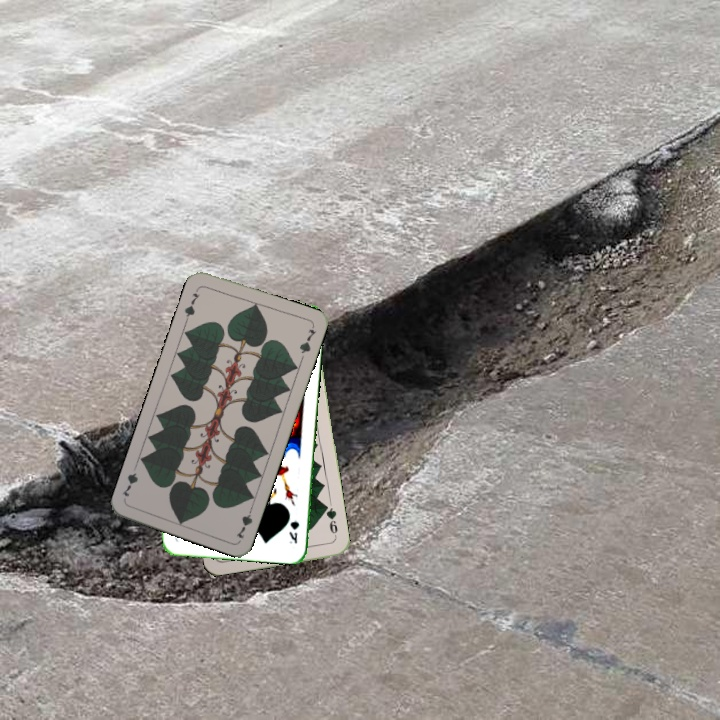G7: (232, 502, 256, 541), (180, 289, 202, 324)
G9: (321, 502, 340, 542)
GK: (285, 517, 301, 546)
